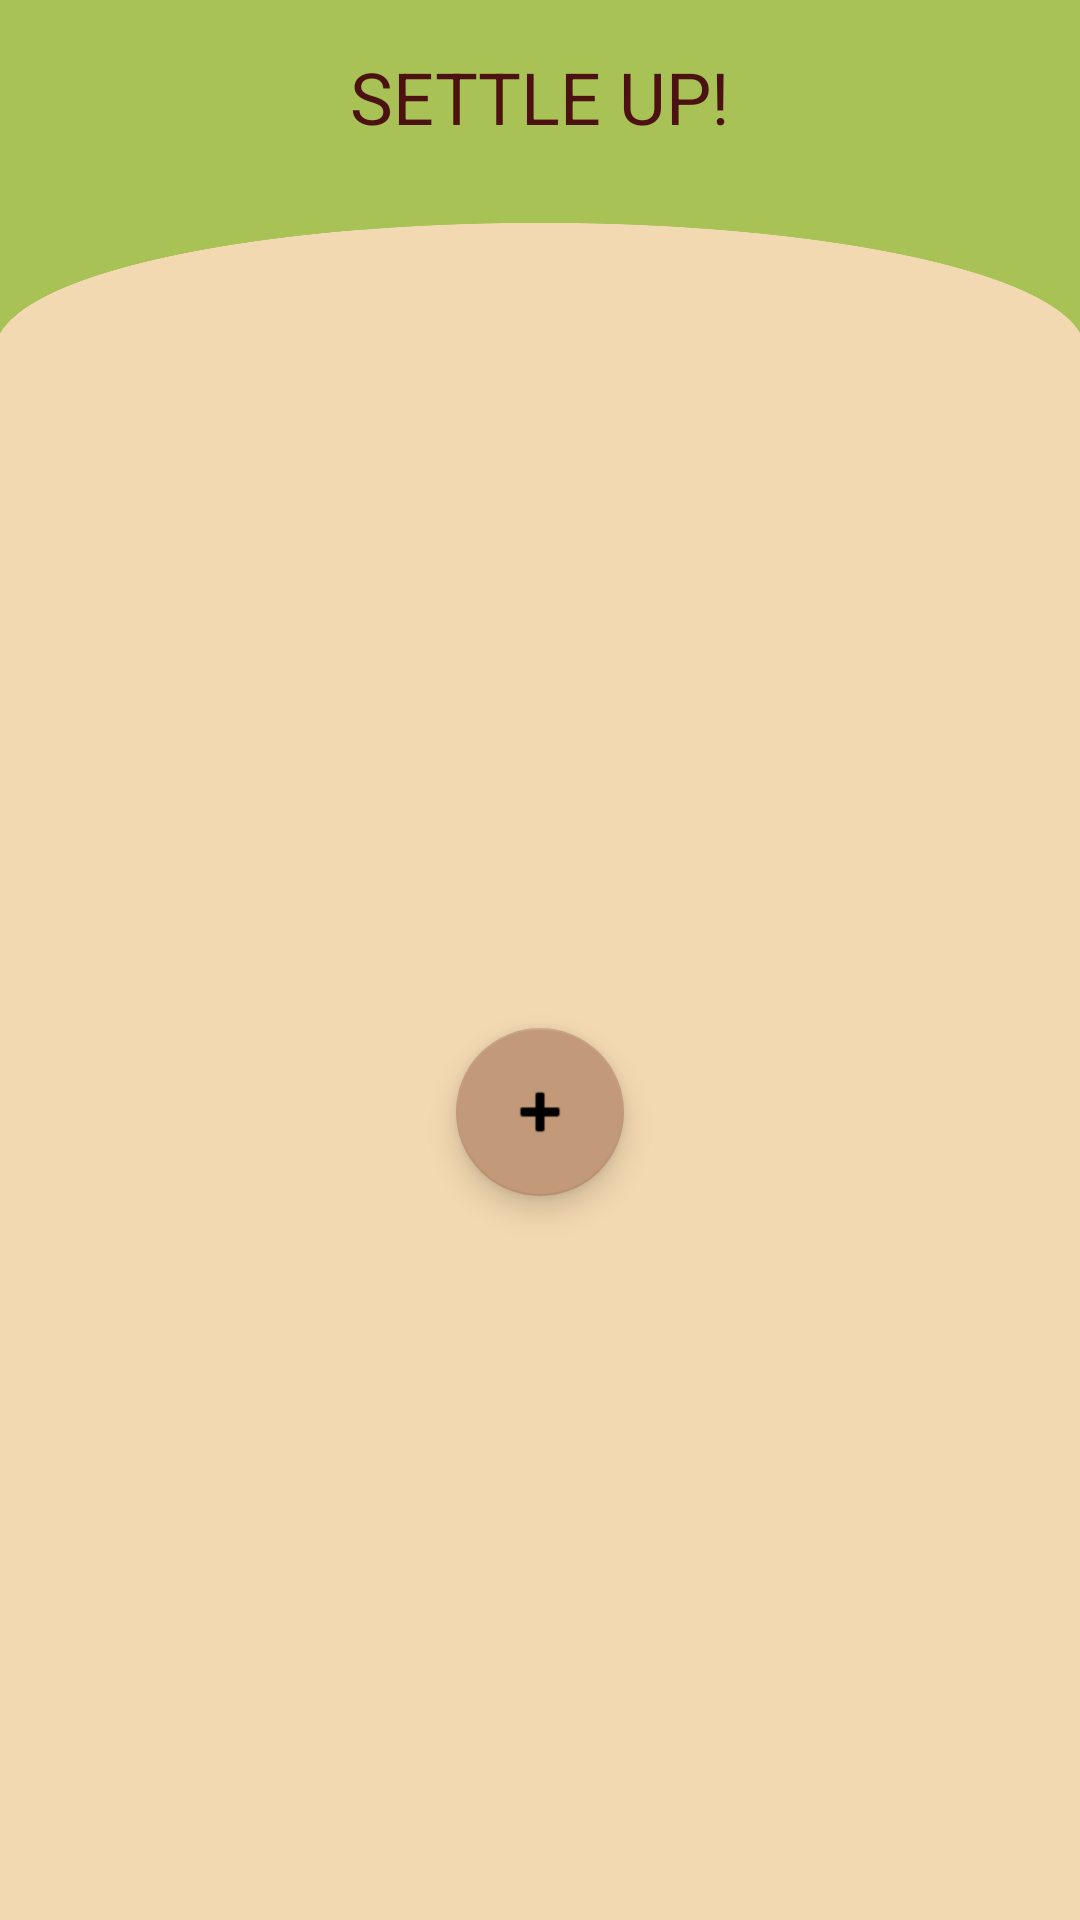

Where to tap for icons on this 1080*1920 app screen, as [x,y]:
add: [540,1112]
